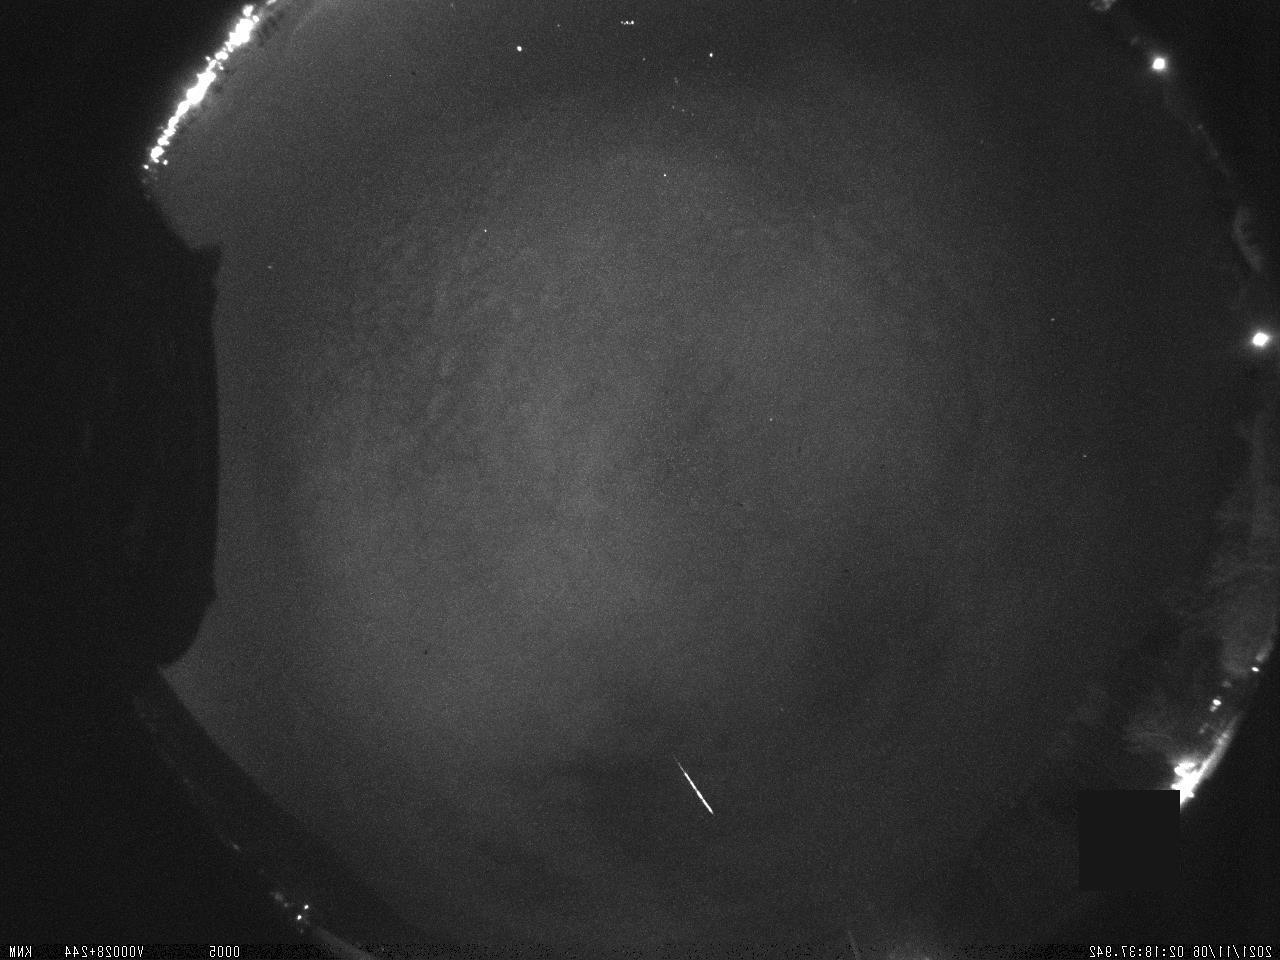meteor: (663, 748, 724, 824)
